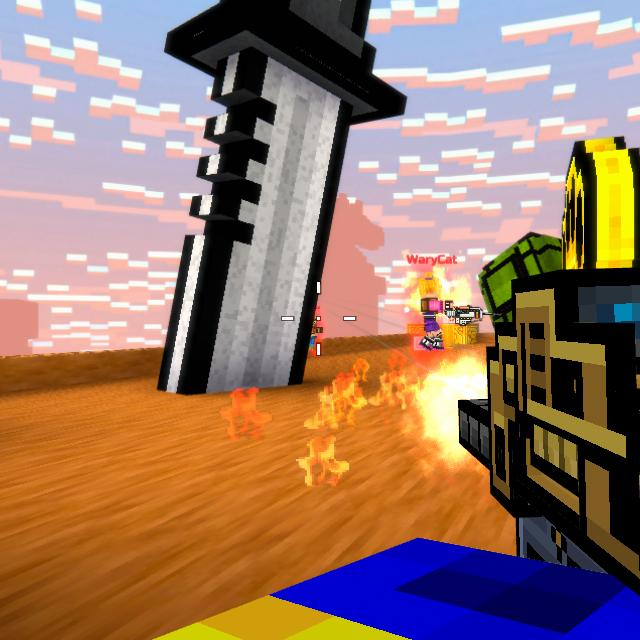Enemy: (418, 276, 454, 352), (309, 316, 323, 351)
